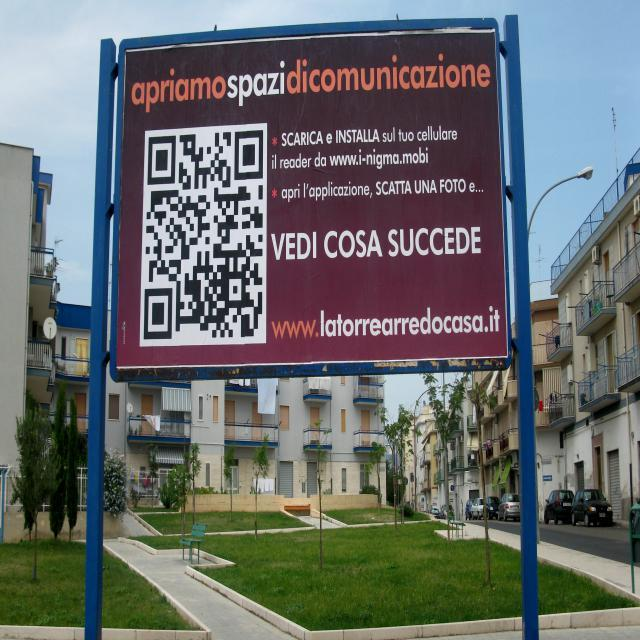qrcode: (144, 131, 264, 340)
